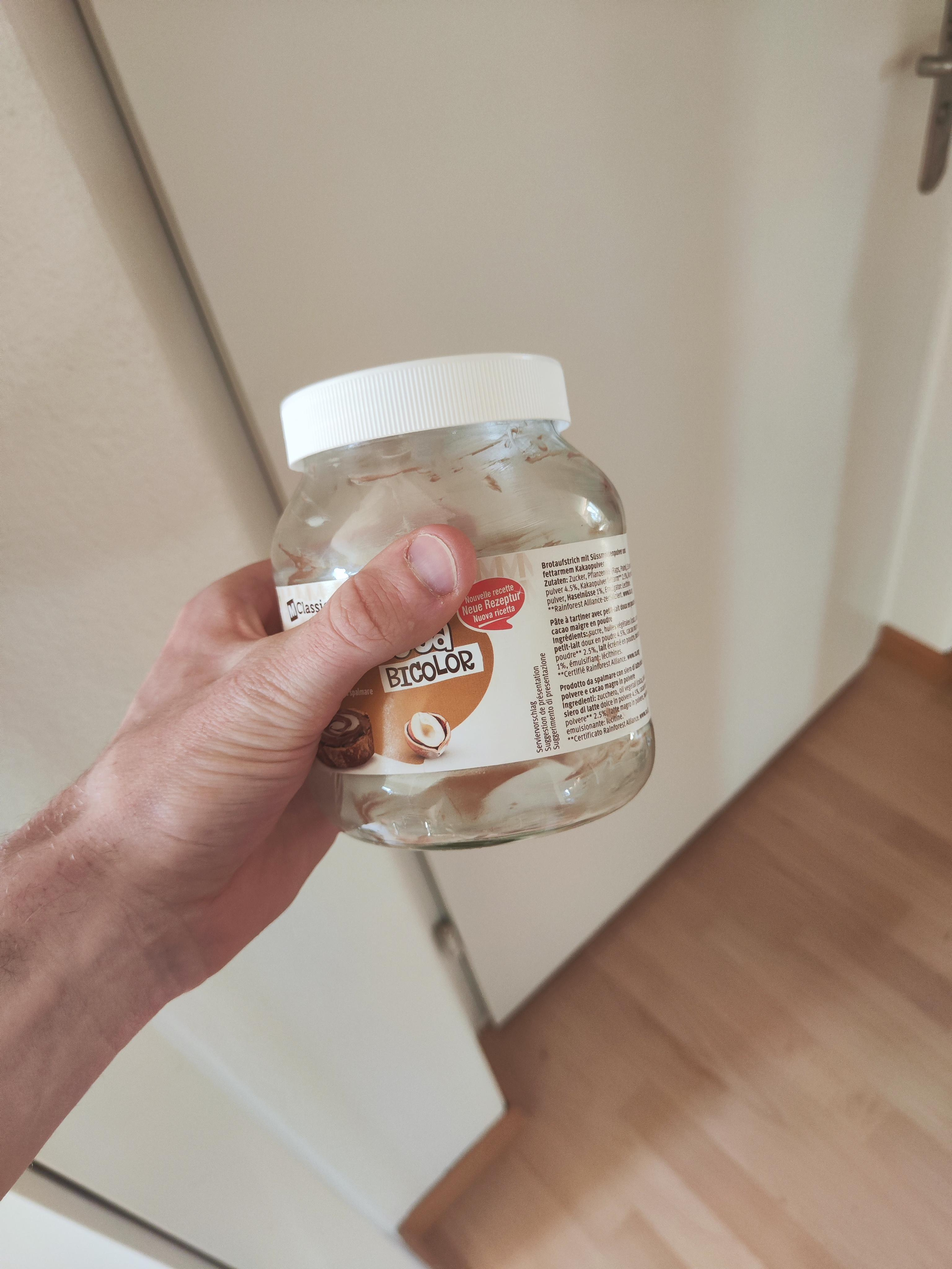Glass: (263, 429, 659, 839)
Plastic: (257, 344, 581, 433)
